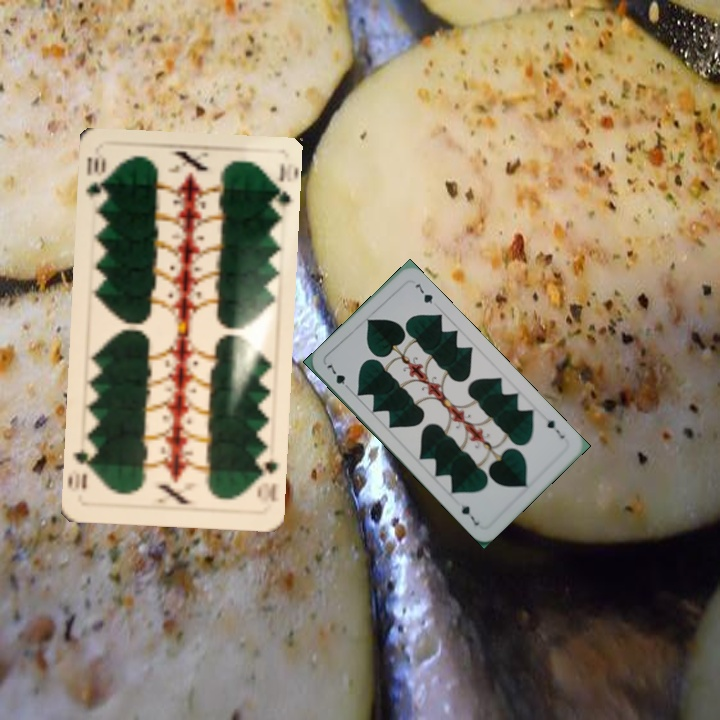G10: (82, 153, 109, 209), (252, 456, 280, 504)
G7: (322, 360, 353, 392), (543, 416, 568, 441)
